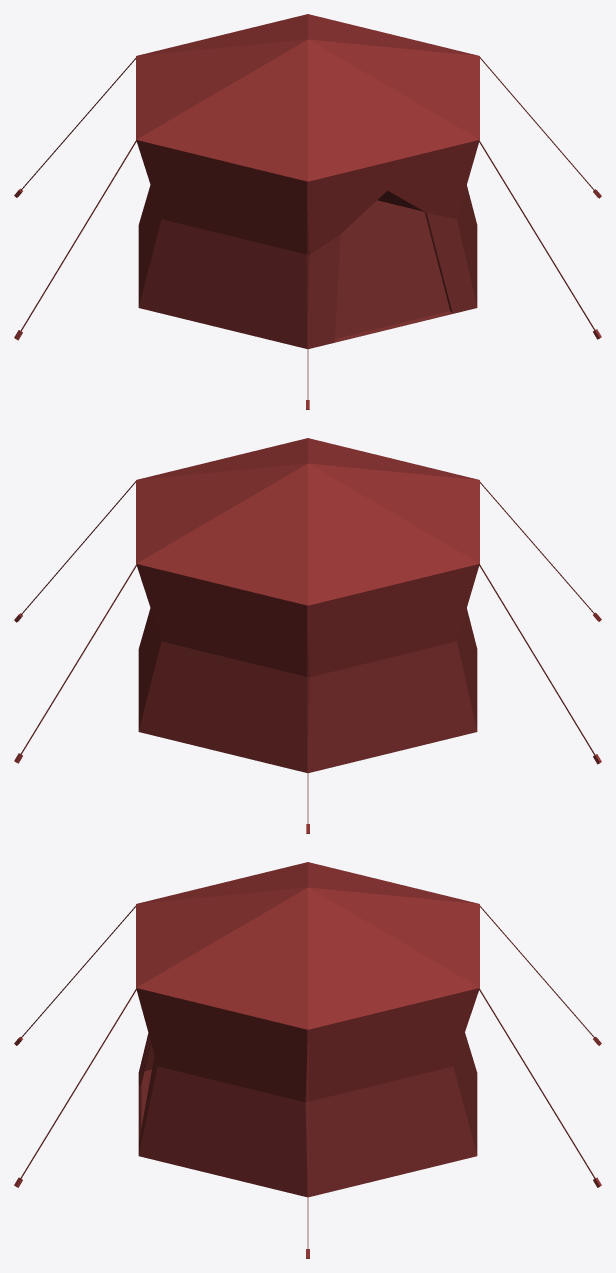
The model's file is Tent_6_Red.fbx.
3 renders of one model, top to bottom at view 1: azimuth 30°, elevation 25°; view 2: azimuth 150°, elevation 25°; view 3: azimuth 270°, elevation 25°, orthographic.
Parts seen in each view (by area): view 1: Tent_6_Red_Part_9, Tent_6_Red_Part_7, Tent_6_Red_Part_1, Tent_6_Red_Part_11, Tent_6_Red_Part_10, Tent_6_Red_Part_8, Tent_6_Red_Part_2, Tent_6_Red_Part_12, Tent_6_Red_Part_6, Tent_6_Red_Part_3; view 2: Tent_6_Red_Part_9, Tent_6_Red_Part_6, Tent_6_Red_Part_5, Tent_6_Red_Part_12, Tent_6_Red_Part_4, Tent_6_Red_Part_7; view 3: Tent_6_Red_Part_9, Tent_6_Red_Part_3, Tent_6_Red_Part_4, Tent_6_Red_Part_12, Tent_6_Red_Part_5.
Boxes of the visible parts, x1,y1,x2,y2 form: Tent_6_Red_Part_9: (136, 14, 479, 181); Tent_6_Red_Part_7: (136, 140, 309, 348); Tent_6_Red_Part_1: (334, 200, 452, 342); Tent_6_Red_Part_11: (387, 140, 479, 218); Tent_6_Red_Part_10: (308, 161, 393, 254); Tent_6_Red_Part_8: (308, 234, 340, 348); Tent_6_Red_Part_2: (424, 212, 477, 313); Tent_6_Red_Part_12: (14, 57, 601, 409); Tent_6_Red_Part_6: (138, 185, 161, 306); Tent_6_Red_Part_3: (457, 185, 477, 306); Tent_6_Red_Part_9: (136, 438, 479, 605); Tent_6_Red_Part_6: (308, 564, 479, 772); Tent_6_Red_Part_5: (136, 564, 309, 772); Tent_6_Red_Part_12: (14, 481, 601, 833); Tent_6_Red_Part_4: (138, 608, 161, 730); Tent_6_Red_Part_7: (457, 608, 477, 730); Tent_6_Red_Part_9: (136, 862, 479, 1029); Tent_6_Red_Part_3: (136, 988, 307, 1197); Tent_6_Red_Part_4: (305, 988, 479, 1197); Tent_6_Red_Part_12: (14, 906, 601, 1258); Tent_6_Red_Part_5: (453, 1033, 477, 1154).
Bounding box in the file's own units: 1636 × 612 × 1420.
